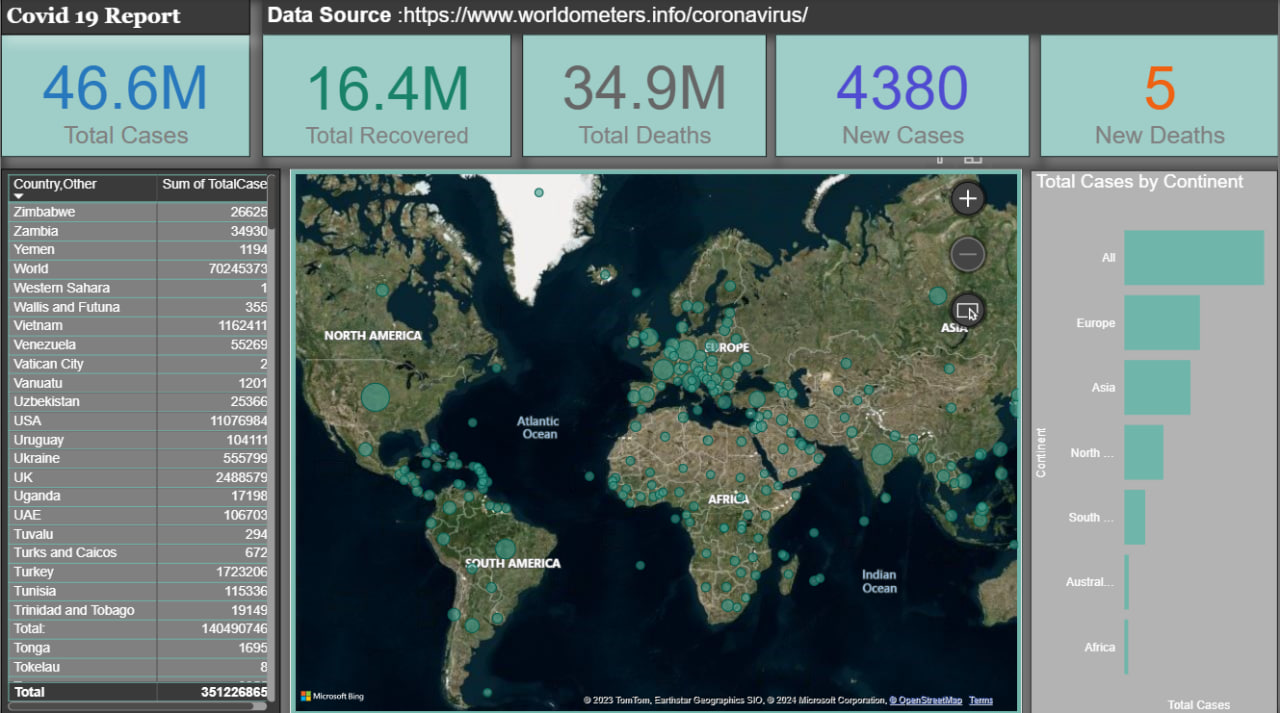

The page's visual inventory and layout, read from the dashboard file:
{"tool":"powerbi","page":{"name":"Page 1","canvas":[1280,720],"ordinal":0},"visuals":[{"type":"map","fields":{"Category":["Table 1.Country,Other"],"Size":["Sum(Table 1.TotalCases)"]},"box":[289.7,171.1,733.4,547.6],"z":0},{"type":"card","fields":{"Values":["Sum(Table 1.Tot Cases/1M pop)"]},"box":[0,36.7,249.4,123.5],"z":1000},{"type":"card","fields":{"Values":["Avg(Table 1.TotalRecovered)"]},"box":[261.6,36.7,249.4,123.5],"z":2000},{"type":"card","fields":{"Values":["Sum(Table 1.TotalDeaths)"]},"box":[522,36.7,244.5,123.5],"z":3000},{"type":"card","fields":{"Values":["Sum(Table 1.NewCases)"]},"box":[775,36.7,255.5,123.5],"z":4000},{"type":"card","fields":{"Values":["Sum(Table 1.NewDeaths)"]},"box":[1040.3,36.7,239.6,123.5],"z":5000},{"type":"tableEx","fields":{"Values":["Table 1.Country,Other","Sum(Table 1.TotalCases)"]},"box":[0,171.1,279.9,547.6],"z":6000},{"type":"clusteredBarChart","fields":{"Category":["Table 1.Continent","Table 1.Country,Other"],"Y":["Sum(Table 1.TotalCases)"]},"box":[1031.7,172.4,248.1,547.6],"z":7000},{"type":"textbox","box":[0,0,249.4,36.7],"z":7001},{"type":"textbox","box":[261.6,0,1018.3,35.4],"z":7002}]}

Visuals, with their boxes in screenshot pixels (x1, y1, x2, y2), scaled from the page's 1280x720 canvas onto the 1280x713 screenshot:
map - Table 1.Country,Other x Sum(Table 1.TotalCases): <bbox>290, 169, 1023, 712</bbox>
card - Sum(Table 1.Tot Cases/1M pop): <bbox>0, 36, 249, 159</bbox>
card - Avg(Table 1.TotalRecovered): <bbox>262, 36, 511, 159</bbox>
card - Sum(Table 1.TotalDeaths): <bbox>522, 36, 766, 159</bbox>
card - Sum(Table 1.NewCases): <bbox>775, 36, 1030, 159</bbox>
card - Sum(Table 1.NewDeaths): <bbox>1040, 36, 1279, 159</bbox>
tableEx - Table 1.Country,Other x Sum(Table 1.TotalCases): <bbox>0, 169, 280, 712</bbox>
clusteredBarChart - Table 1.Continent x Table 1.Country,Other: <bbox>1032, 171, 1279, 712</bbox>
textbox: <bbox>0, 0, 249, 36</bbox>
textbox: <bbox>262, 0, 1279, 35</bbox>
